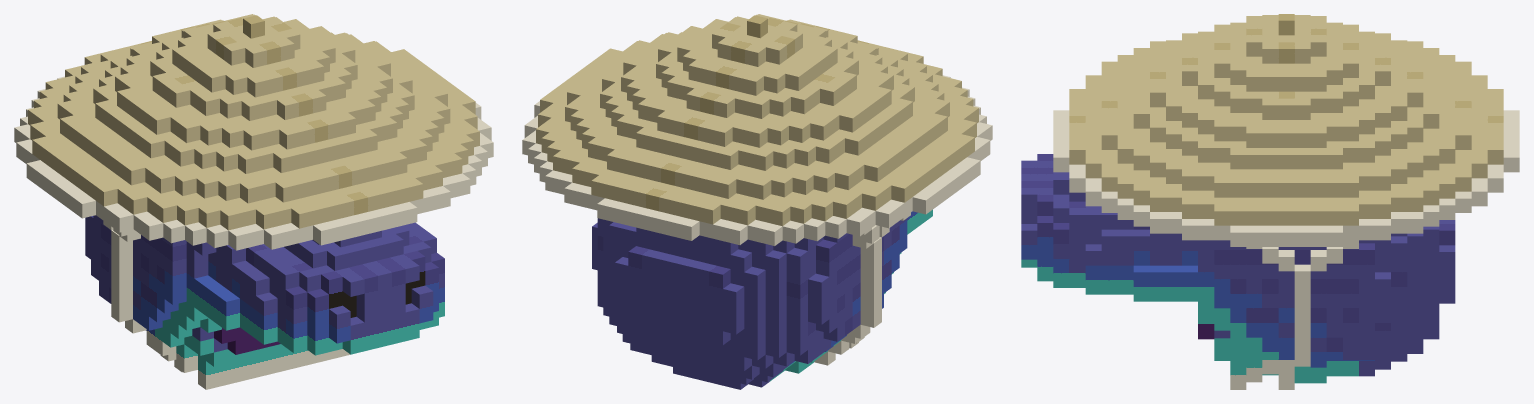
File: samurai.gltf
3 views of the same model, side by side, from view 1: azimuth 30°, elevation 25°; view 2: azimuth 150°, elevation 25°; view 3: azimuth 270°, elevation 25° (orthographic). The views are drawn at different scales.
Parts seen in each view (by area): view 1: 10 Head_Samurai-Mesh; view 2: 10 Head_Samurai-Mesh; view 3: 10 Head_Samurai-Mesh.
Boxes of the visible parts, bbox=[...] form: 10 Head_Samurai-Mesh: bbox=[14, 14, 493, 389]; 10 Head_Samurai-Mesh: bbox=[522, 14, 992, 389]; 10 Head_Samurai-Mesh: bbox=[1021, 14, 1519, 389].
Bounding box in the file's own units: 29 × 23 × 31.
1 material, 1 textured.
